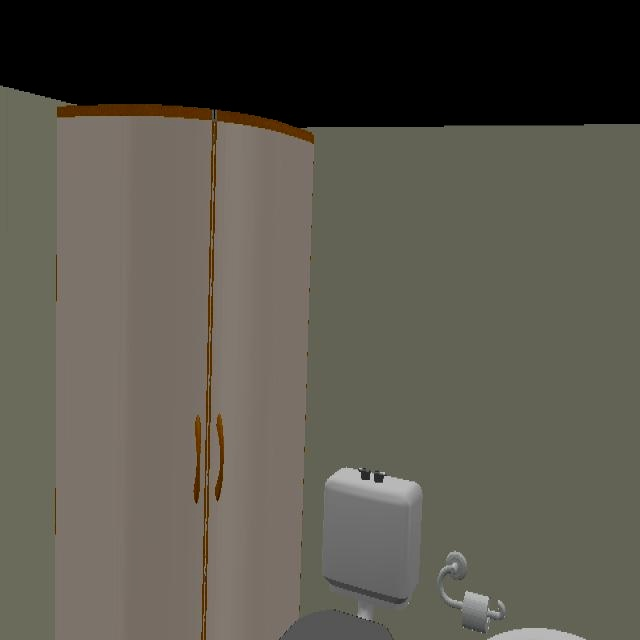bathtube: (488, 628, 586, 640)
shower: (51, 105, 316, 640)
toilet: (279, 468, 424, 640)
